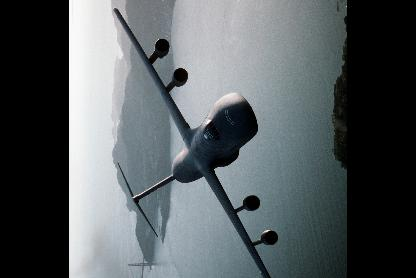C17: (112, 7, 286, 275)
